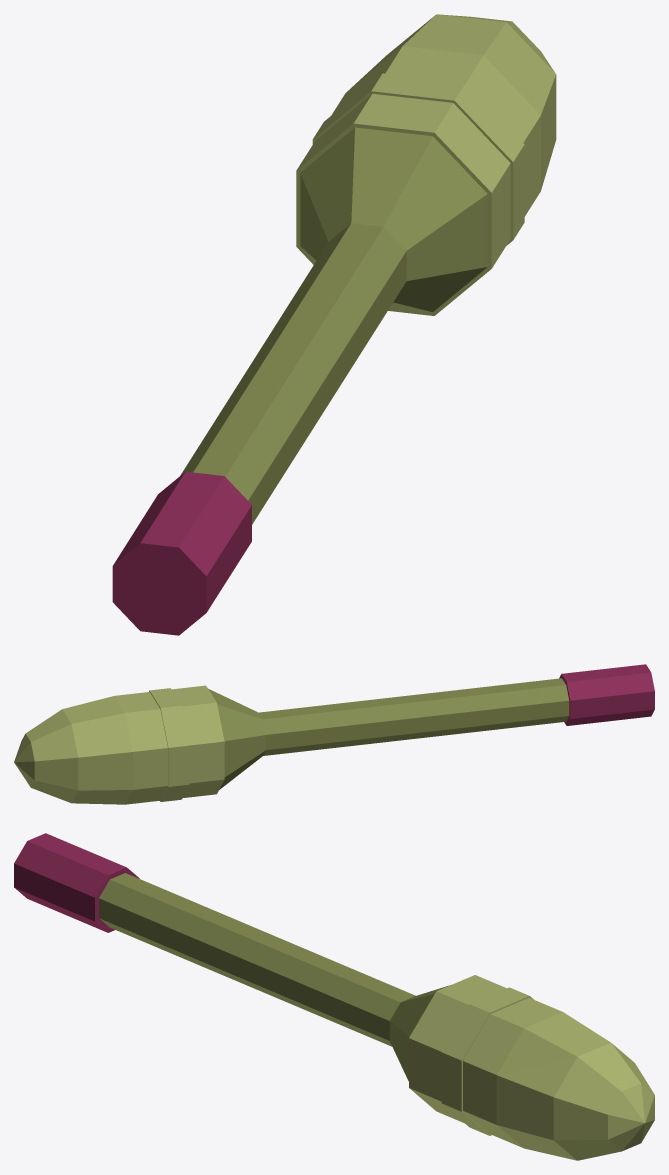
File: ce_ammo2_rpg_thermo_a.obj
The picture shows the model from 3 angles, top to bottom: view 1: azimuth 30°, elevation 25°; view 2: azimuth 150°, elevation 25°; view 3: azimuth 270°, elevation 25°; orthographic projection. The views are drawn at different scales.
Parts seen in each view (by area): view 1: ce_ammo2_rpg_thermo_a_1, ce_ammo2_rpg_thermo_a_2, ce_ammo2_rpg_thermo_a_0, ce_ammo2_rpg_thermo_a_3, ce_ammo2_rpg_thermo_a_6, ce_ammo2_rpg_thermo_a_5, ce_ammo2_rpg_thermo_a_4; view 2: ce_ammo2_rpg_thermo_a_1, ce_ammo2_rpg_thermo_a_6, ce_ammo2_rpg_thermo_a_0, ce_ammo2_rpg_thermo_a_3, ce_ammo2_rpg_thermo_a_5, ce_ammo2_rpg_thermo_a_7, ce_ammo2_rpg_thermo_a_2, ce_ammo2_rpg_thermo_a_4, ce_ammo2_rpg_thermo_a_8; view 3: ce_ammo2_rpg_thermo_a_1, ce_ammo2_rpg_thermo_a_6, ce_ammo2_rpg_thermo_a_7, ce_ammo2_rpg_thermo_a_0, ce_ammo2_rpg_thermo_a_5, ce_ammo2_rpg_thermo_a_3, ce_ammo2_rpg_thermo_a_4, ce_ammo2_rpg_thermo_a_8, ce_ammo2_rpg_thermo_a_2.
Boxes of the visible parts, x1=… form: ce_ammo2_rpg_thermo_a_1: x1=180, y1=223, x2=406, y2=524; ce_ammo2_rpg_thermo_a_2: x1=300, y1=127, x2=487, y2=312; ce_ammo2_rpg_thermo_a_0: x1=112, y1=471, x2=251, y2=635; ce_ammo2_rpg_thermo_a_3: x1=296, y1=93, x2=510, y2=315; ce_ammo2_rpg_thermo_a_6: x1=347, y1=14, x2=556, y2=189; ce_ammo2_rpg_thermo_a_5: x1=331, y1=46, x2=540, y2=216; ce_ammo2_rpg_thermo_a_4: x1=312, y1=73, x2=524, y2=245; ce_ammo2_rpg_thermo_a_1: x1=259, y1=678, x2=569, y2=755; ce_ammo2_rpg_thermo_a_6: x1=62, y1=696, x2=132, y2=804; ce_ammo2_rpg_thermo_a_0: x1=559, y1=664, x2=654, y2=725; ce_ammo2_rpg_thermo_a_3: x1=171, y1=685, x2=224, y2=797; ce_ammo2_rpg_thermo_a_5: x1=114, y1=692, x2=167, y2=804; ce_ammo2_rpg_thermo_a_7: x1=25, y1=709, x2=78, y2=803; ce_ammo2_rpg_thermo_a_2: x1=208, y1=688, x2=265, y2=789; ce_ammo2_rpg_thermo_a_4: x1=149, y1=688, x2=189, y2=801; ce_ammo2_rpg_thermo_a_8: x1=14, y1=734, x2=34, y2=787; ce_ammo2_rpg_thermo_a_1: x1=99, y1=873, x2=415, y2=1046; ce_ammo2_rpg_thermo_a_6: x1=496, y1=1012, x2=610, y2=1160; ce_ammo2_rpg_thermo_a_7: x1=553, y1=1043, x2=654, y2=1160; ce_ammo2_rpg_thermo_a_0: x1=14, y1=833, x2=139, y2=932; ce_ammo2_rpg_thermo_a_5: x1=463, y1=997, x2=562, y2=1147; ce_ammo2_rpg_thermo_a_3: x1=409, y1=975, x2=506, y2=1123; ce_ammo2_rpg_thermo_a_4: x1=441, y1=987, x2=533, y2=1135; ce_ammo2_rpg_thermo_a_8: x1=608, y1=1083, x2=654, y2=1151; ce_ammo2_rpg_thermo_a_2: x1=389, y1=985, x2=449, y2=1081.
Size of the model in its own units: 0.6702 by 0.1422 by 0.6702.
